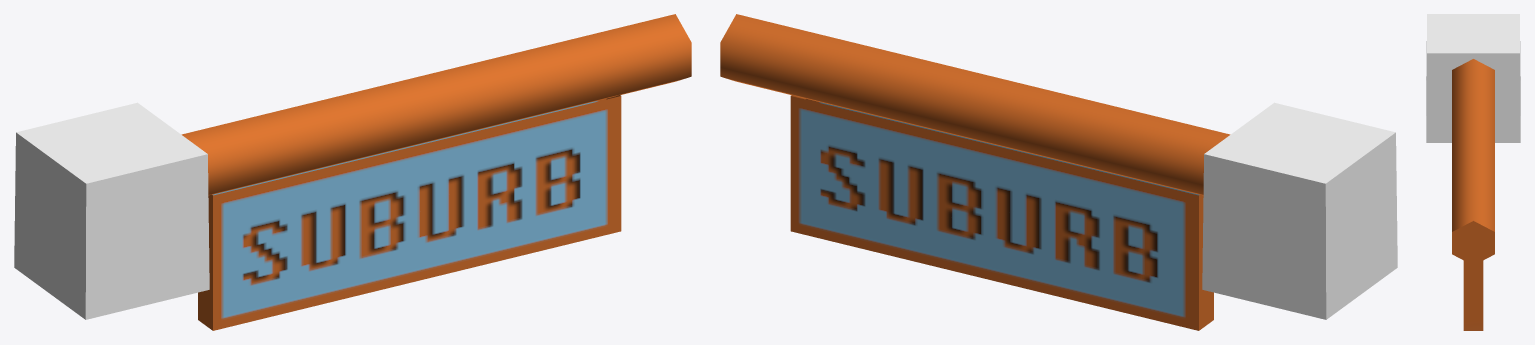
File: Part_Name_Suburb.FBX
3 views of the same model, side by side, from view 1: azimuth 30°, elevation 25°; view 2: azimuth 150°, elevation 25°; view 3: azimuth 270°, elevation 25° (orthographic). The views are drawn at different scales.
Visible parts, largest first — view 1: Part_Name_Suburb; view 2: Part_Name_Suburb; view 3: Part_Name_Suburb.
Boxes of the visible parts, x1,y1,x2,y2 form: Part_Name_Suburb: (14,14,691,330); Part_Name_Suburb: (720,14,1397,330); Part_Name_Suburb: (1426,14,1520,330).
Bounding box in the file's own units: 483 × 151 × 95.71.
